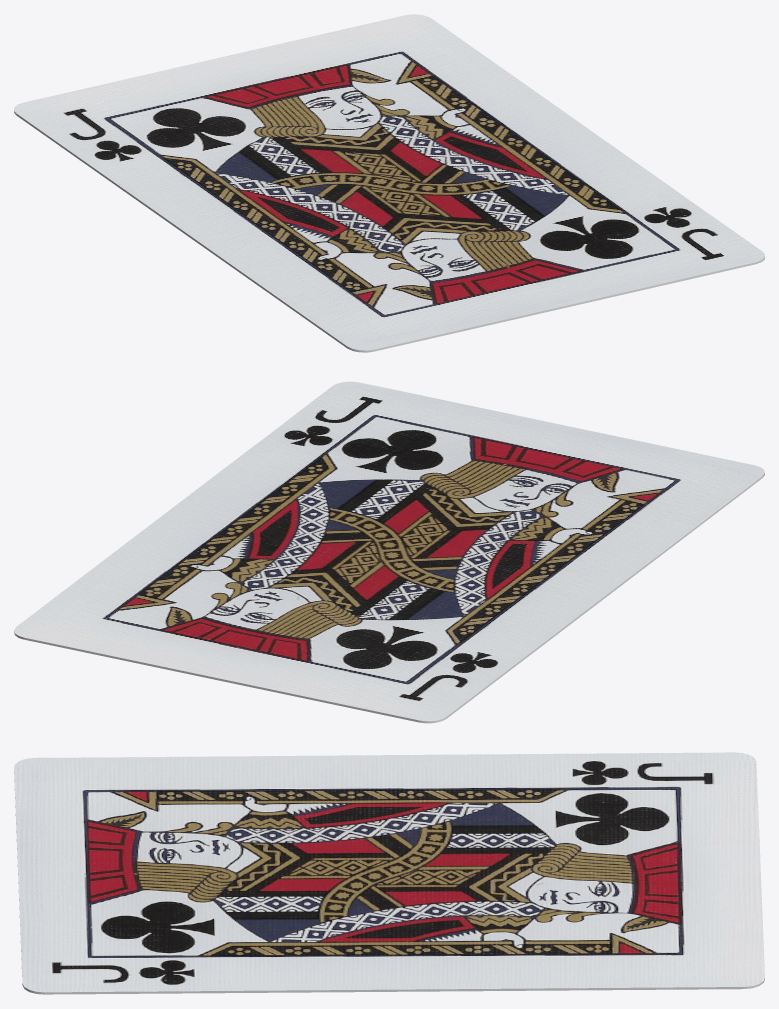
File: clubsJ.fbx
3 views of the same model, one above another, from view 1: azimuth 30°, elevation 25°; view 2: azimuth 150°, elevation 25°; view 3: azimuth 270°, elevation 25° (orthographic). The views are drawn at different scales.
Visible parts, largest first — view 1: Clubs_J_5; view 2: Clubs_J_5; view 3: Clubs_J_5.
Boxes of the visible parts, x1,y1,x2,y2 form: Clubs_J_5: (14,14,764,352); Clubs_J_5: (14,381,764,723); Clubs_J_5: (14,752,764,994).
Bounding box in the file's own units: 6.4 × 0.181 × 8.9.
